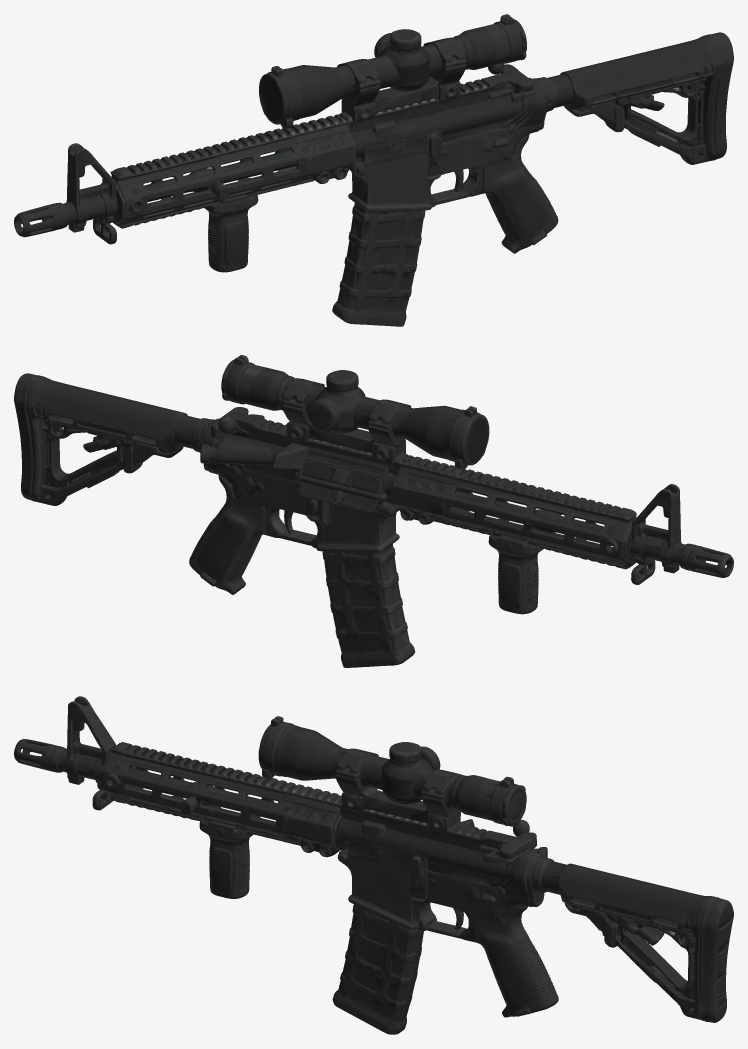
3 views of the same model, one above another, from view 1: azimuth 30°, elevation 25°; view 2: azimuth 150°, elevation 25°; view 3: azimuth 330°, elevation 25° (orthographic).
Size of the model in its own units: 1.9 by 0.7349 by 0.2012.
Materials: 1 (1 with a texture image).
